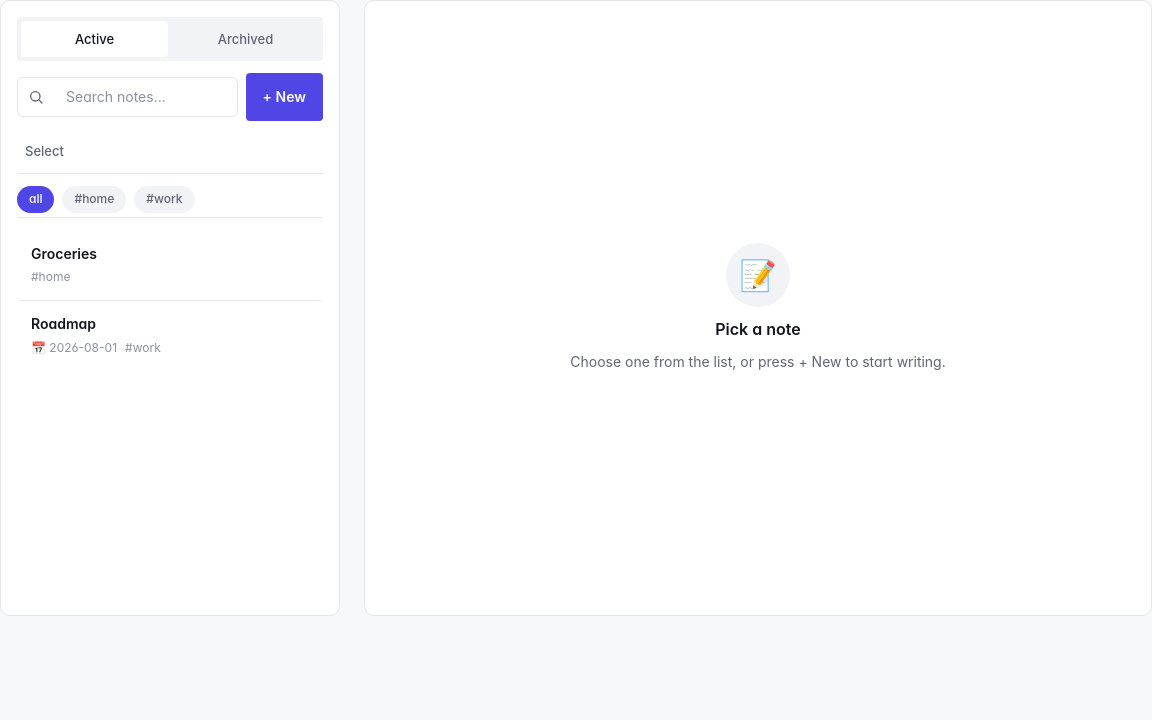
Test: Notes page on the store › enters bulk mode and keeps the delete button disabled until something is checked
Expected: the text "Groceries" is shown, [31, 245, 97, 262]
Click the button "Select" at (44, 151), box [17, 137, 72, 165]
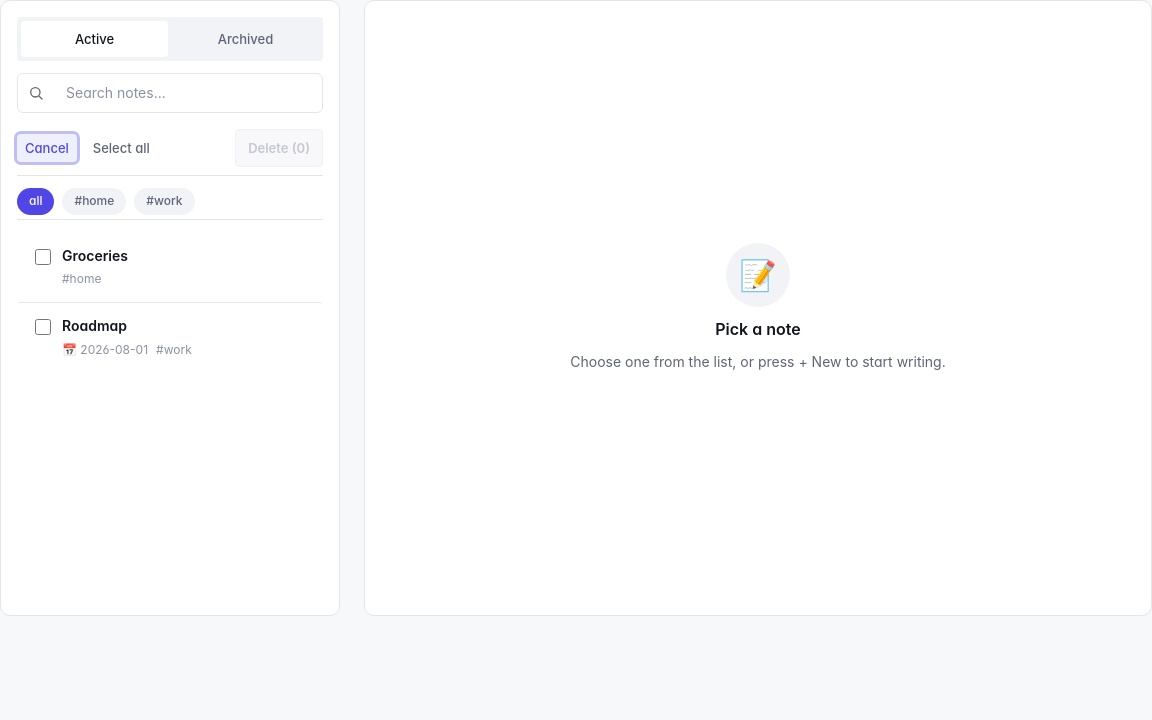
Expected: the button "Delete (0)" is disabled, [235, 129, 323, 167]
Click the text "Groceries" at (95, 255), box [62, 247, 128, 264]
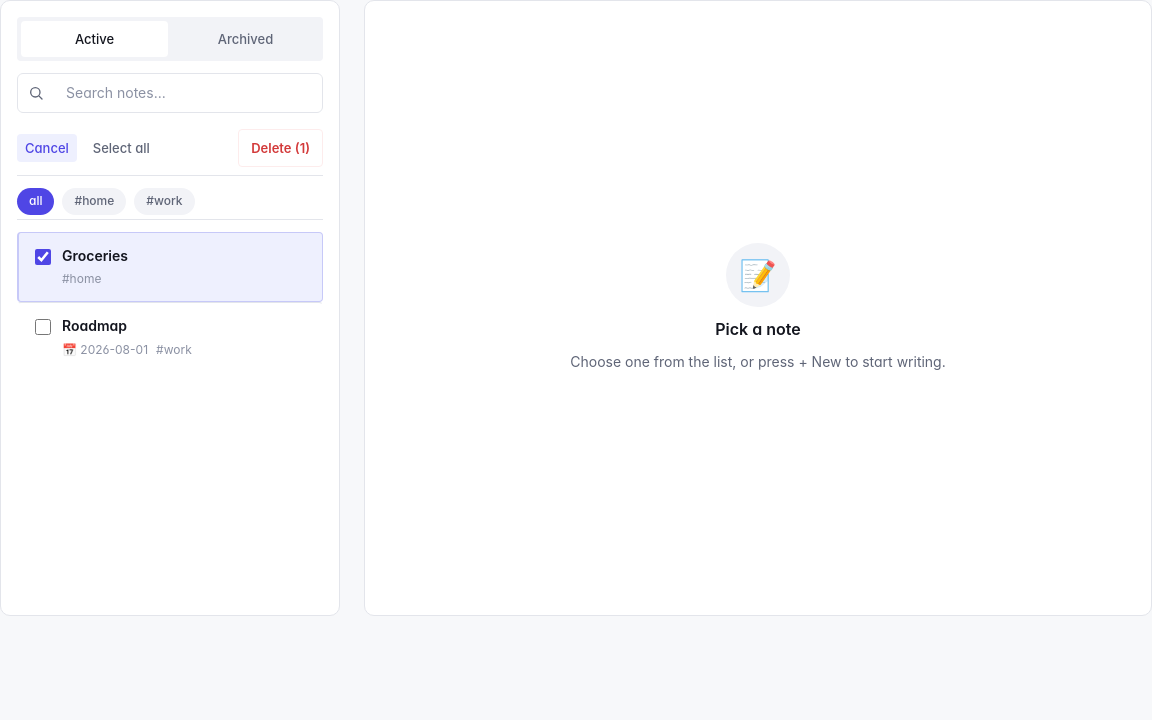
Expected: the button "Delete (1)" is enabled, [238, 129, 323, 167]
